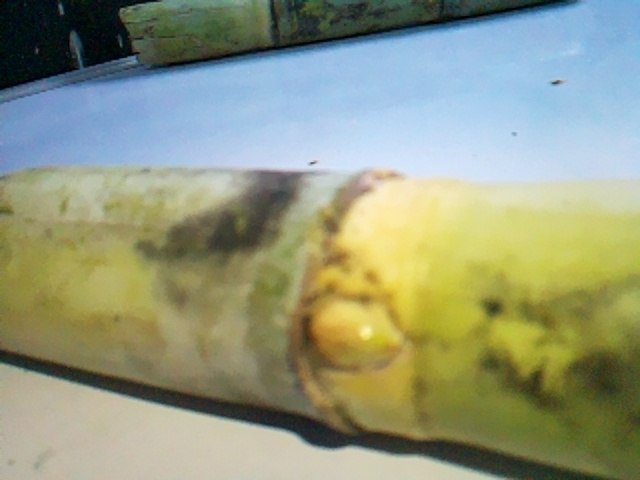Good Sugarcane: (0, 168, 635, 477)
Node: (282, 163, 447, 446)
